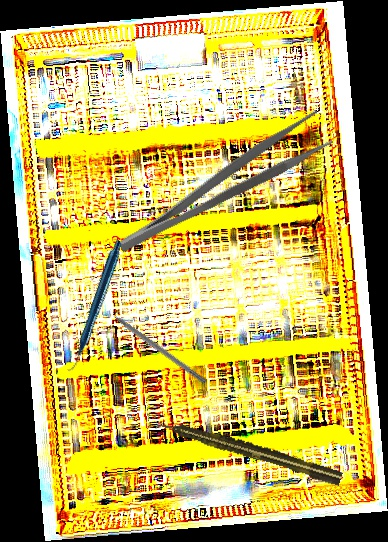Dressing Forceps: (105, 107, 336, 259)
Handpiece: (22, 238, 165, 373), (154, 414, 344, 488)
Hook Surgical: (101, 304, 208, 385)
